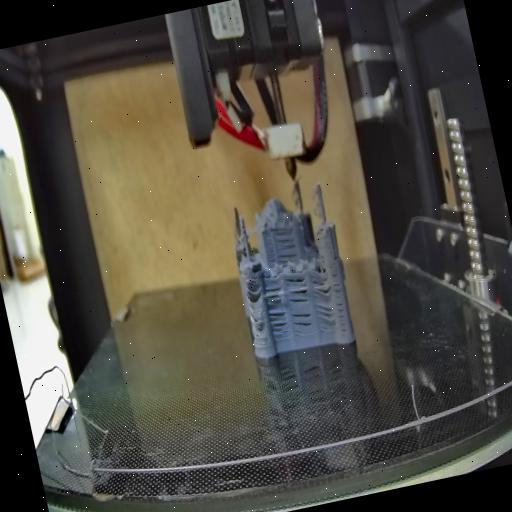cracks: (261, 280, 290, 339), (328, 267, 350, 335), (282, 270, 310, 306), (272, 225, 300, 261), (310, 270, 332, 300), (314, 302, 337, 330), (242, 276, 262, 306), (292, 306, 314, 333), (248, 310, 267, 336)
